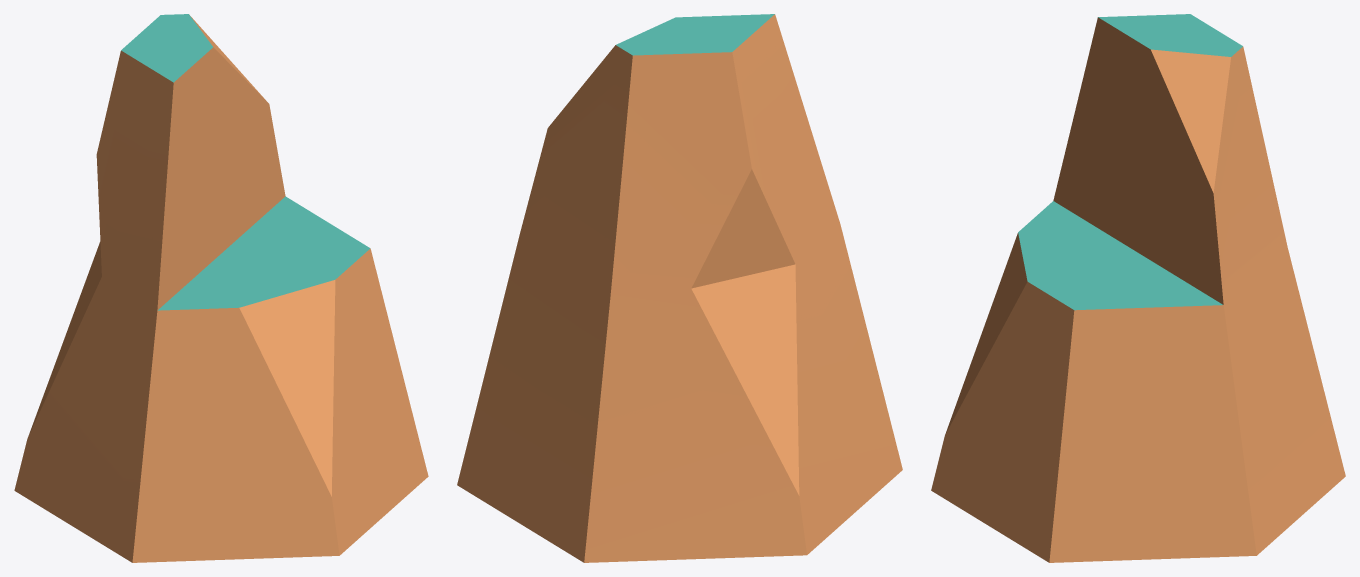
Rendered from rock_tall10.fbx.
3 renders of one model, left to right at view 1: azimuth 30°, elevation 25°; view 2: azimuth 150°, elevation 25°; view 3: azimuth 270°, elevation 25°, orthographic. The views are drawn at different scales.
Parts seen in each view (by area): view 1: rock_tall10; view 2: rock_tall10; view 3: rock_tall10.
Part boxes in pixels (x1,y1,x2,y2): rock_tall10: [14, 14, 428, 562]; rock_tall10: [457, 14, 902, 562]; rock_tall10: [931, 14, 1345, 562].
Bounding box in the file's own units: 4.88 × 6.2 × 5.38.
